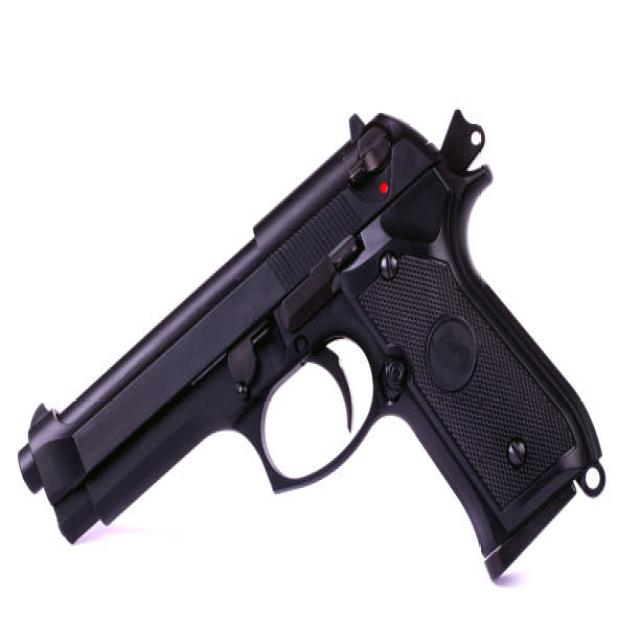pistol: (13, 98, 609, 585)
